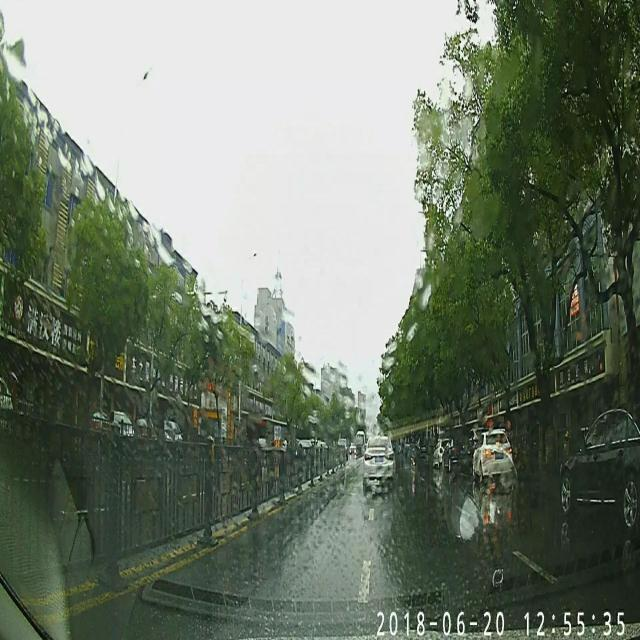car: (559, 405, 640, 524), (472, 426, 514, 483), (362, 432, 396, 486)
